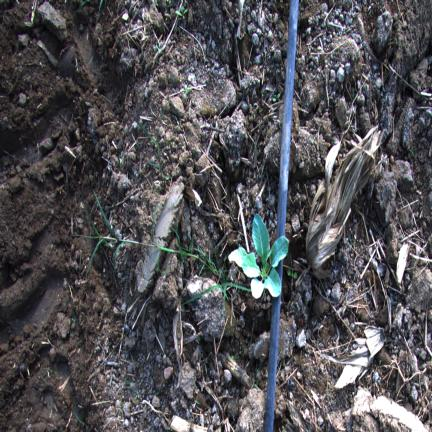crop: (229, 213, 288, 298)
